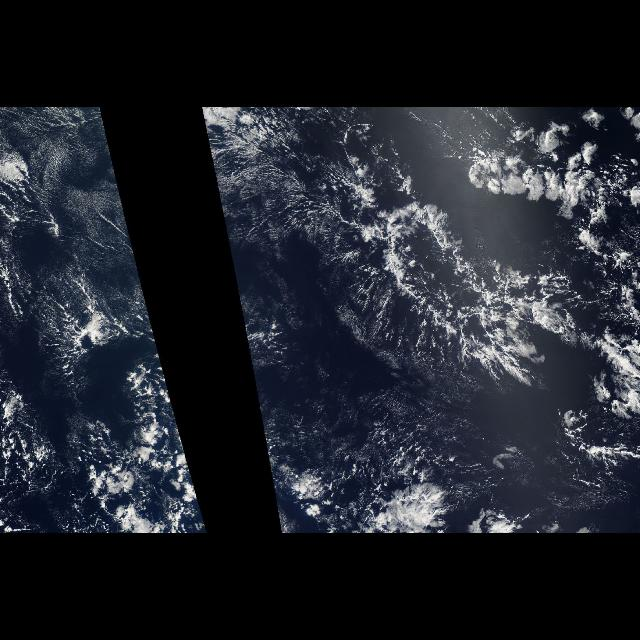Fish: (201, 120, 639, 396)
Sugar: (1, 108, 159, 356)
